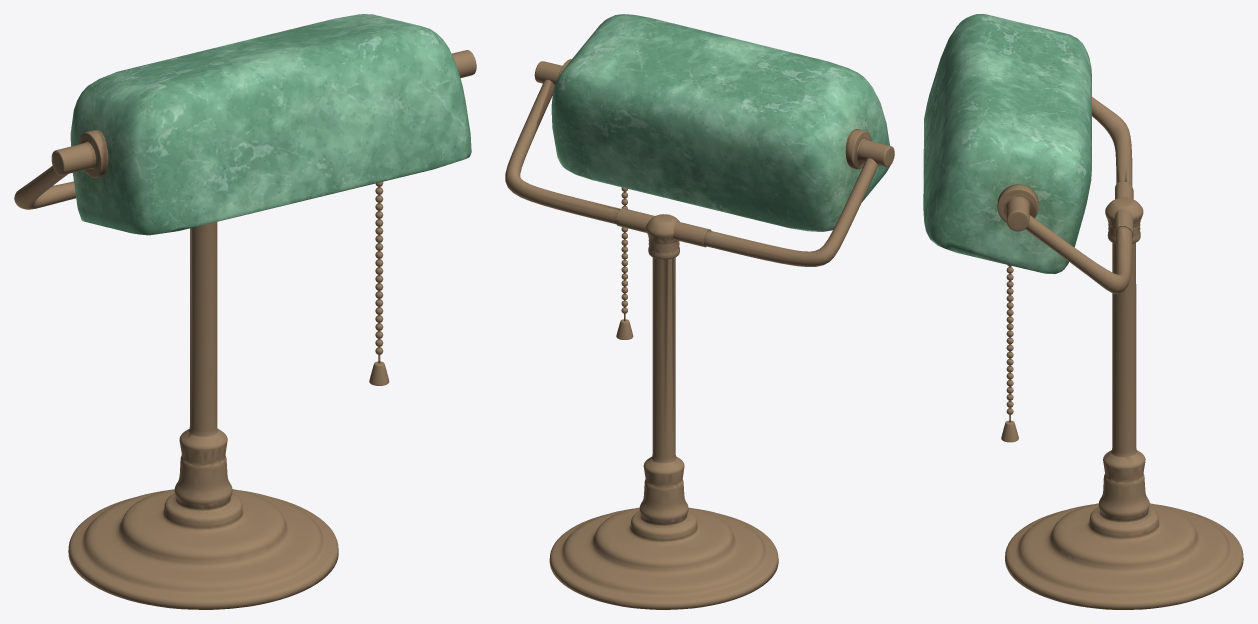
File: vintage_desk_lamp.glb
3 views of the same model, side by side, from view 1: azimuth 30°, elevation 25°; view 2: azimuth 150°, elevation 25°; view 3: azimuth 270°, elevation 25° (orthographic). The views are drawn at different scales.
Visible parts, largest first — view 1: pCube1, pCylinder1, pCylinder5, pCylinder4; view 2: pCube1, pCylinder1, pCylinder4, pCylinder5, pCylinder6; view 3: pCube1, pCylinder1, pCylinder4, pCylinder6.
Boxes of the visible parts, box(x1,y1,x2,y2) form: pCube1: box(70, 14, 471, 235); pCylinder1: box(68, 222, 338, 609); pCylinder5: box(51, 130, 108, 177); pCylinder4: box(14, 166, 75, 209); pCube1: box(551, 14, 889, 231); pCylinder1: box(549, 214, 778, 609); pCylinder4: box(505, 79, 878, 266); pCylinder5: box(845, 129, 894, 169); pCylinder6: box(534, 59, 571, 84); pCube1: box(923, 14, 1091, 274); pCylinder1: box(1005, 197, 1243, 609); pCylinder4: box(1025, 97, 1133, 293); pCylinder6: box(997, 184, 1038, 231).
Size of the model in its own units: 1.56 by 2 by 1.18.
1 material, 1 textured.
